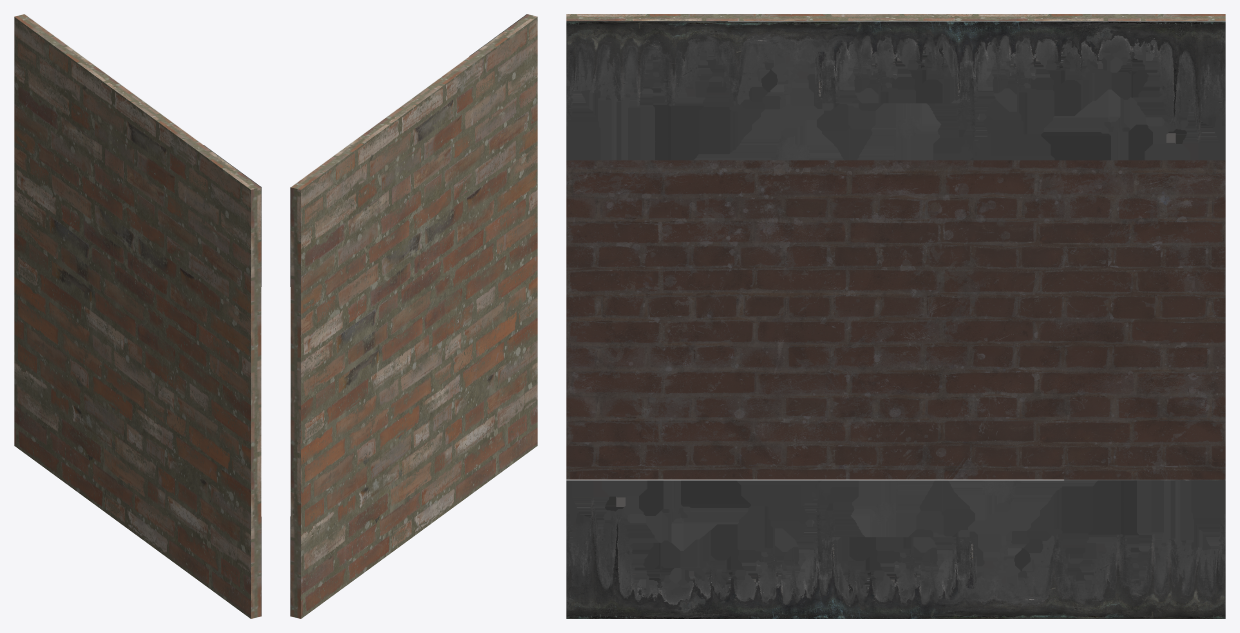
File: Kit_BricksEmpty.fbx
The picture shows the model from 3 angles, left to right: view 1: azimuth 30°, elevation 25°; view 2: azimuth 150°, elevation 25°; view 3: azimuth 270°, elevation 25°; orthographic projection. The views are drawn at different scales.
Parts seen in each view (by area): view 1: Kit_BricksEmpty; view 2: Kit_BricksEmpty; view 3: Kit_BricksEmpty.
Boxes of the visible parts, x1=… form: Kit_BricksEmpty: x1=14, y1=14, x2=261, y2=618; Kit_BricksEmpty: x1=290, y1=14, x2=537, y2=618; Kit_BricksEmpty: x1=566, y1=14, x2=1225, y2=618.
Bounding box in the file's own units: 4.17 × 157 × 157.
